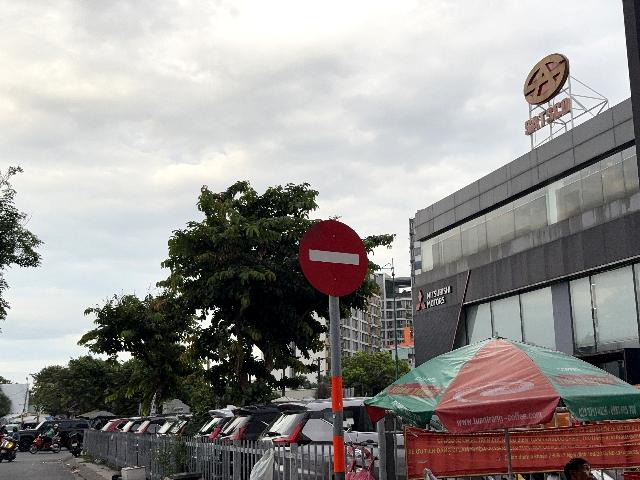cam-di-nguoc-chieu: (299, 220, 367, 297)
